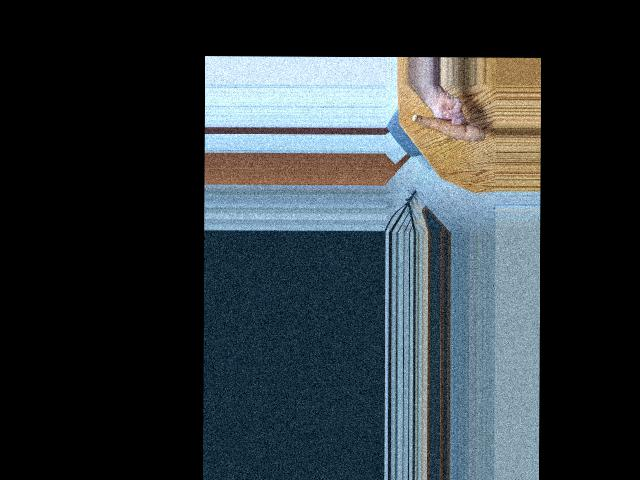sweet_potato: (411, 111, 483, 143)
